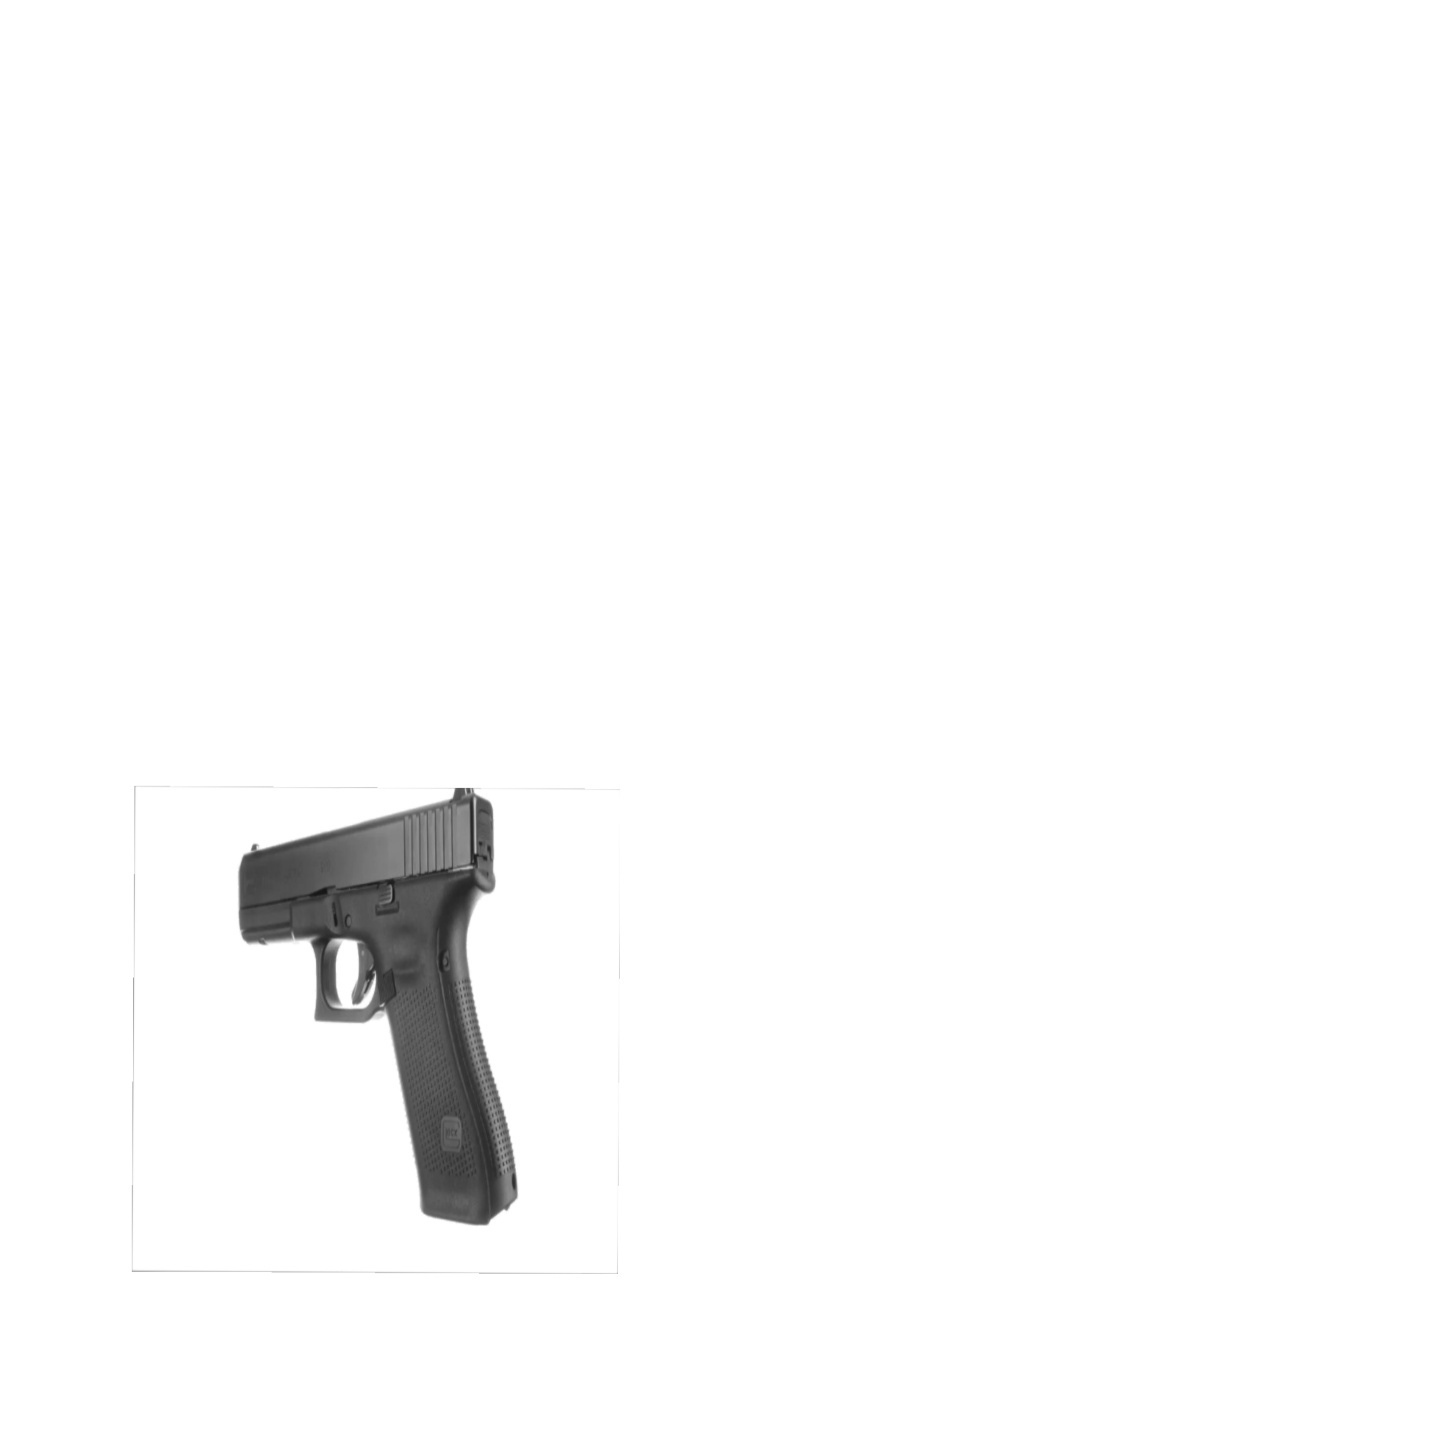gun: (238, 789, 519, 1226)
